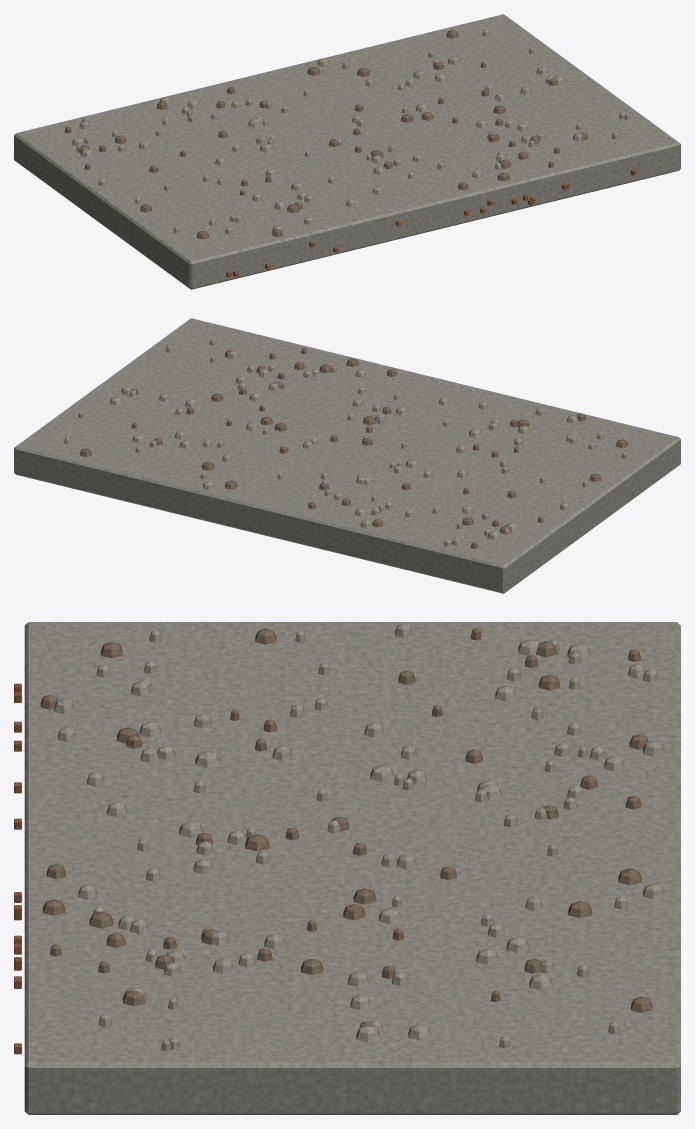
The model's file is TUN1SHTP_lod0.glb.
3 renders of one model, top to bottom at view 1: azimuth 30°, elevation 25°; view 2: azimuth 150°, elevation 25°; view 3: azimuth 270°, elevation 25°, orthographic. The views are drawn at different scales.
Parts seen in each view (by area): view 1: TUN1SHTP_LOD0; view 2: TUN1SHTP_LOD0; view 3: TUN1SHTP_LOD0.
Part boxes in pixels (left/top/right/bottom): TUN1SHTP_LOD0: left=14, top=14, right=680, bottom=289; TUN1SHTP_LOD0: left=14, top=318, right=680, bottom=593; TUN1SHTP_LOD0: left=14, top=622, right=680, bottom=1114.
Size of the model in its own units: 4 by 0.26 by 2.54.
4 materials, 4 textured.
